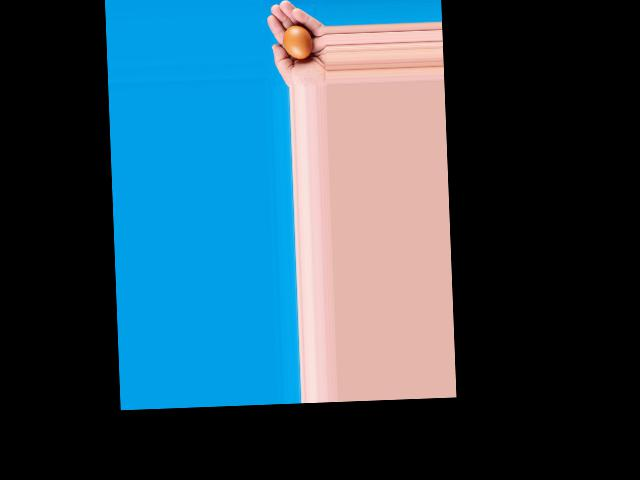egg: (283, 24, 312, 59)
